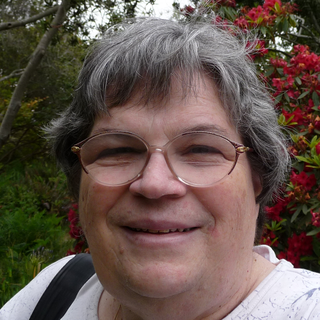eye: (178, 140, 224, 163), (95, 141, 141, 163)
